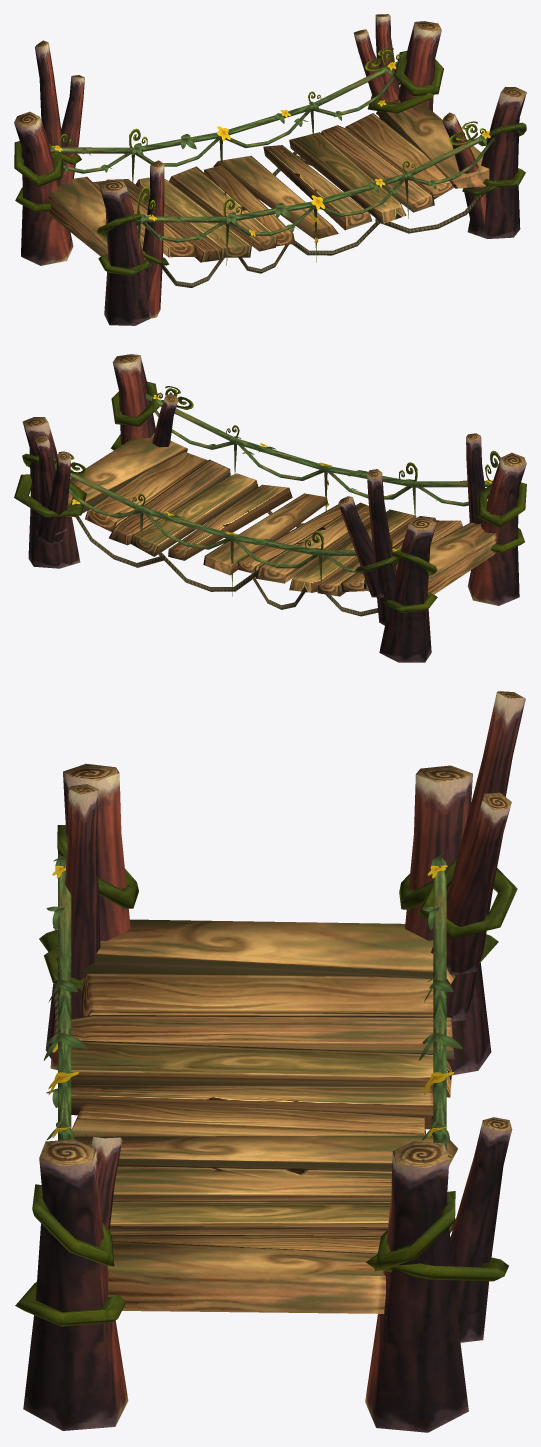
File: sm_bridge_06.FBX
3 views of the same model, one above another, from view 1: azimuth 30°, elevation 25°; view 2: azimuth 150°, elevation 25°; view 3: azimuth 270°, elevation 25° (orthographic). The views are drawn at different scales.
Visible parts, largest first — view 1: sm_bridge_06; view 2: sm_bridge_06; view 3: sm_bridge_06.
Part boxes in pixels (<box>): sm_bridge_06: <box>14,14,526,325</box>; sm_bridge_06: <box>14,354,526,662</box>; sm_bridge_06: <box>15,691,525,1432</box>.
Size of the model in its own units: 2170 by 1133 by 954.
